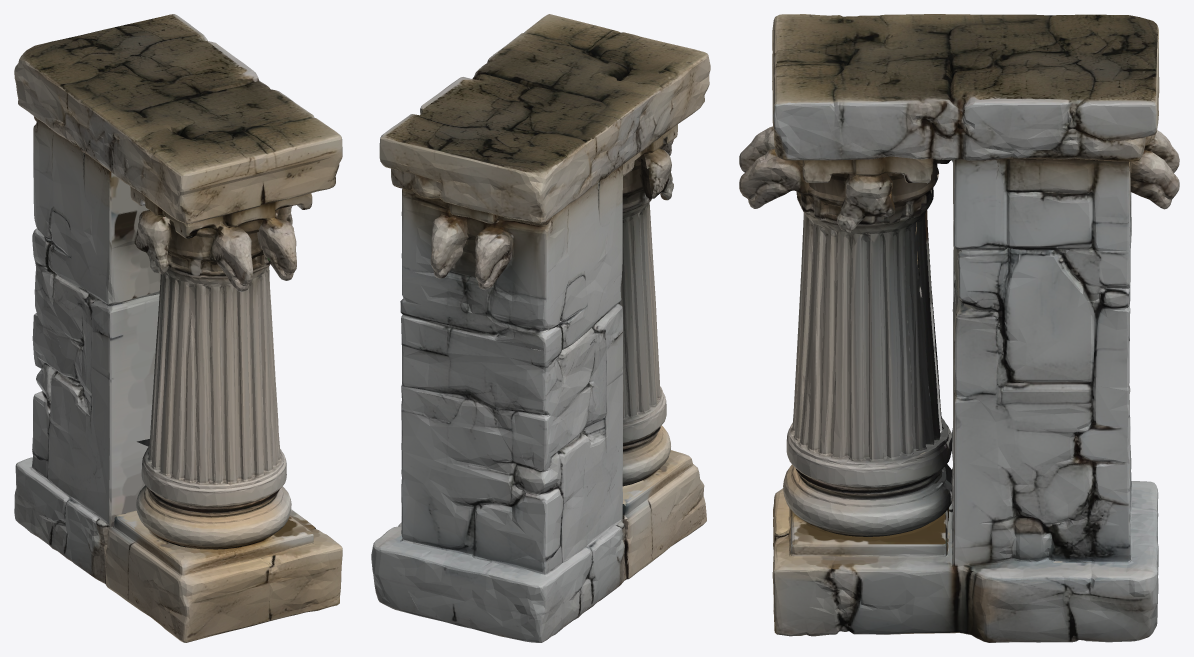
Rendered from half-engaged-wall-pillar-optimized.glb.
The picture shows the model from 3 angles, left to right: view 1: azimuth 30°, elevation 25°; view 2: azimuth 150°, elevation 25°; view 3: azimuth 270°, elevation 25°; orthographic projection. The views are drawn at different scales.
Visible parts, largest first — view 1: 10ad1bdf-944a-48e2-83cb-117780420dcf_texturing.obj; view 2: 10ad1bdf-944a-48e2-83cb-117780420dcf_texturing.obj; view 3: 10ad1bdf-944a-48e2-83cb-117780420dcf_texturing.obj.
Part boxes in pixels (x1,y1,x2,y2): 10ad1bdf-944a-48e2-83cb-117780420dcf_texturing.obj: (14, 14, 342, 642); 10ad1bdf-944a-48e2-83cb-117780420dcf_texturing.obj: (371, 14, 710, 642); 10ad1bdf-944a-48e2-83cb-117780420dcf_texturing.obj: (739, 14, 1179, 642).
Size of the model in its own units: 1.57 by 4 by 2.97.
1 material, 1 textured.
